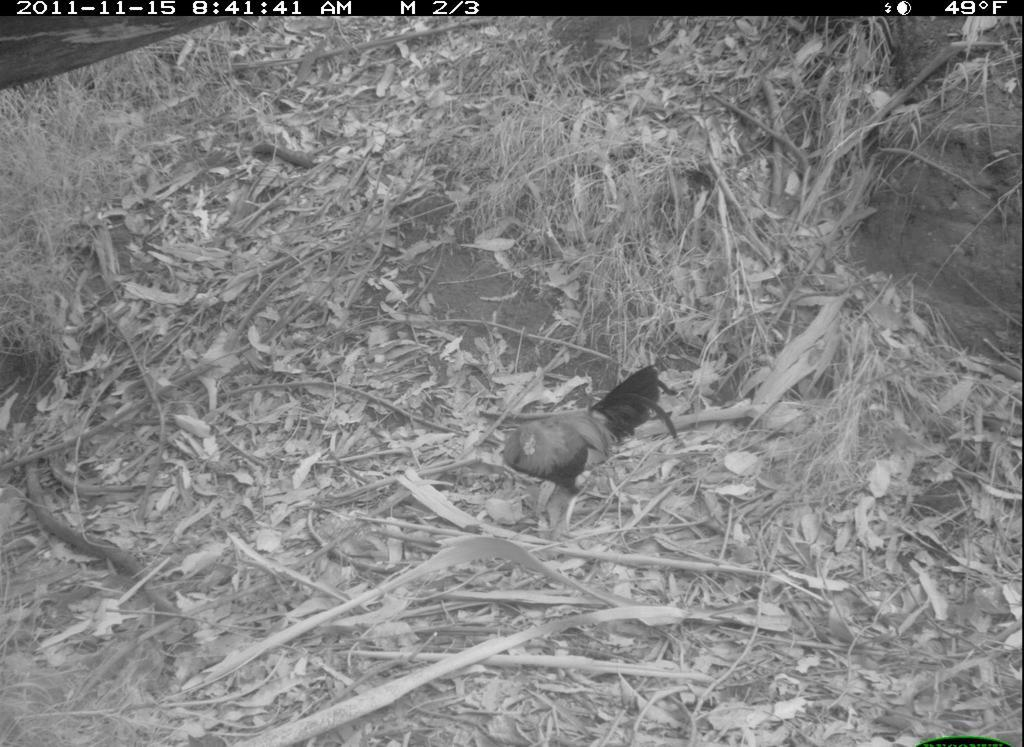bird: (487, 356, 671, 516)
